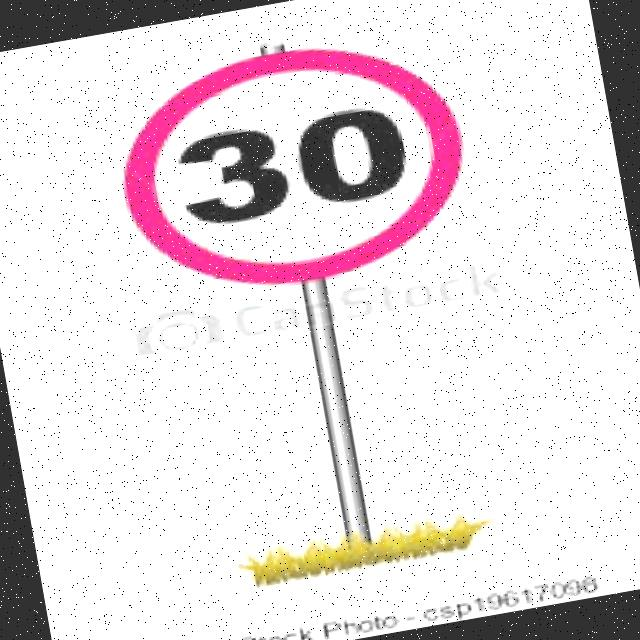Ograniczenie predkosci do 30: (122, 30, 469, 297)
